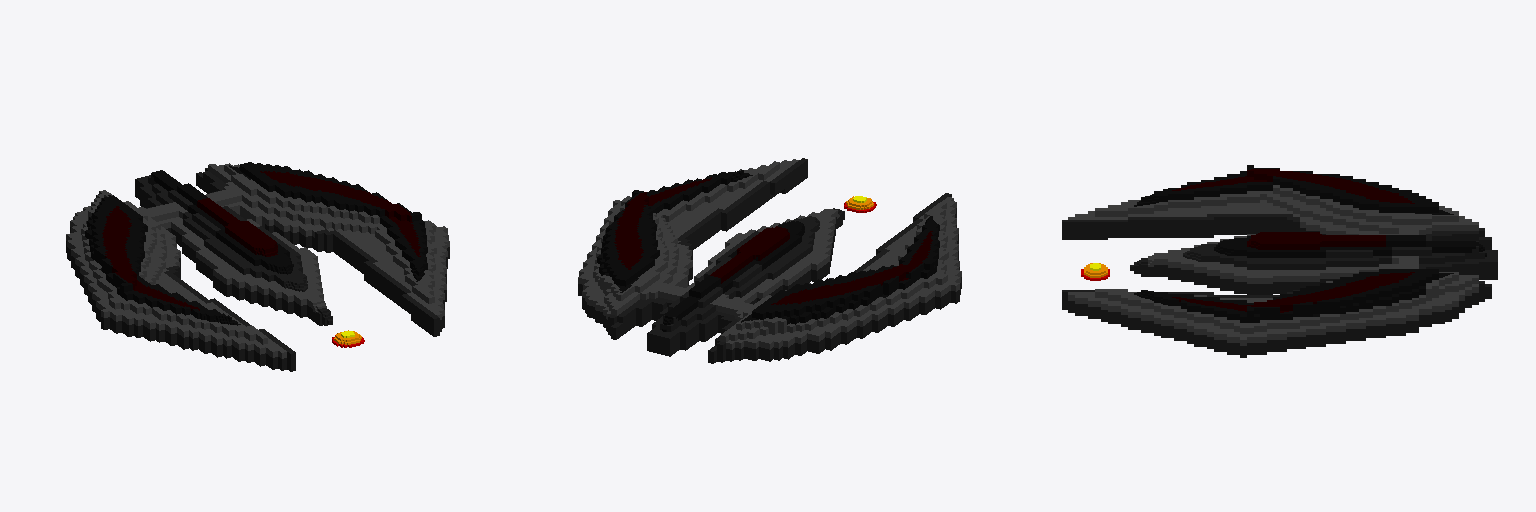
The picture shows the model from 3 angles: view 1: azimuth 30°, elevation 25°; view 2: azimuth 150°, elevation 25°; view 3: azimuth 270°, elevation 25°; orthographic projection.
Parts seen in each view (by area): view 1: object 1; view 2: object 1; view 3: object 1.
Part boxes in pixels (left/top/right/bottom): object 1: left=66, top=162, right=449, bottom=371; object 1: left=578, top=158, right=961, bottom=363; object 1: left=1062, top=165, right=1497, bottom=357.
Bounding box in the file's own units: 18 × 1.8 × 19.8.
1 materials, 1 textured.